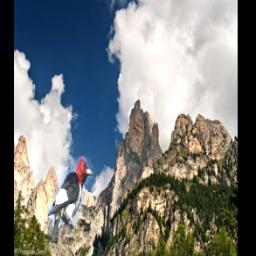Woodpecker: (48, 156, 93, 243)
